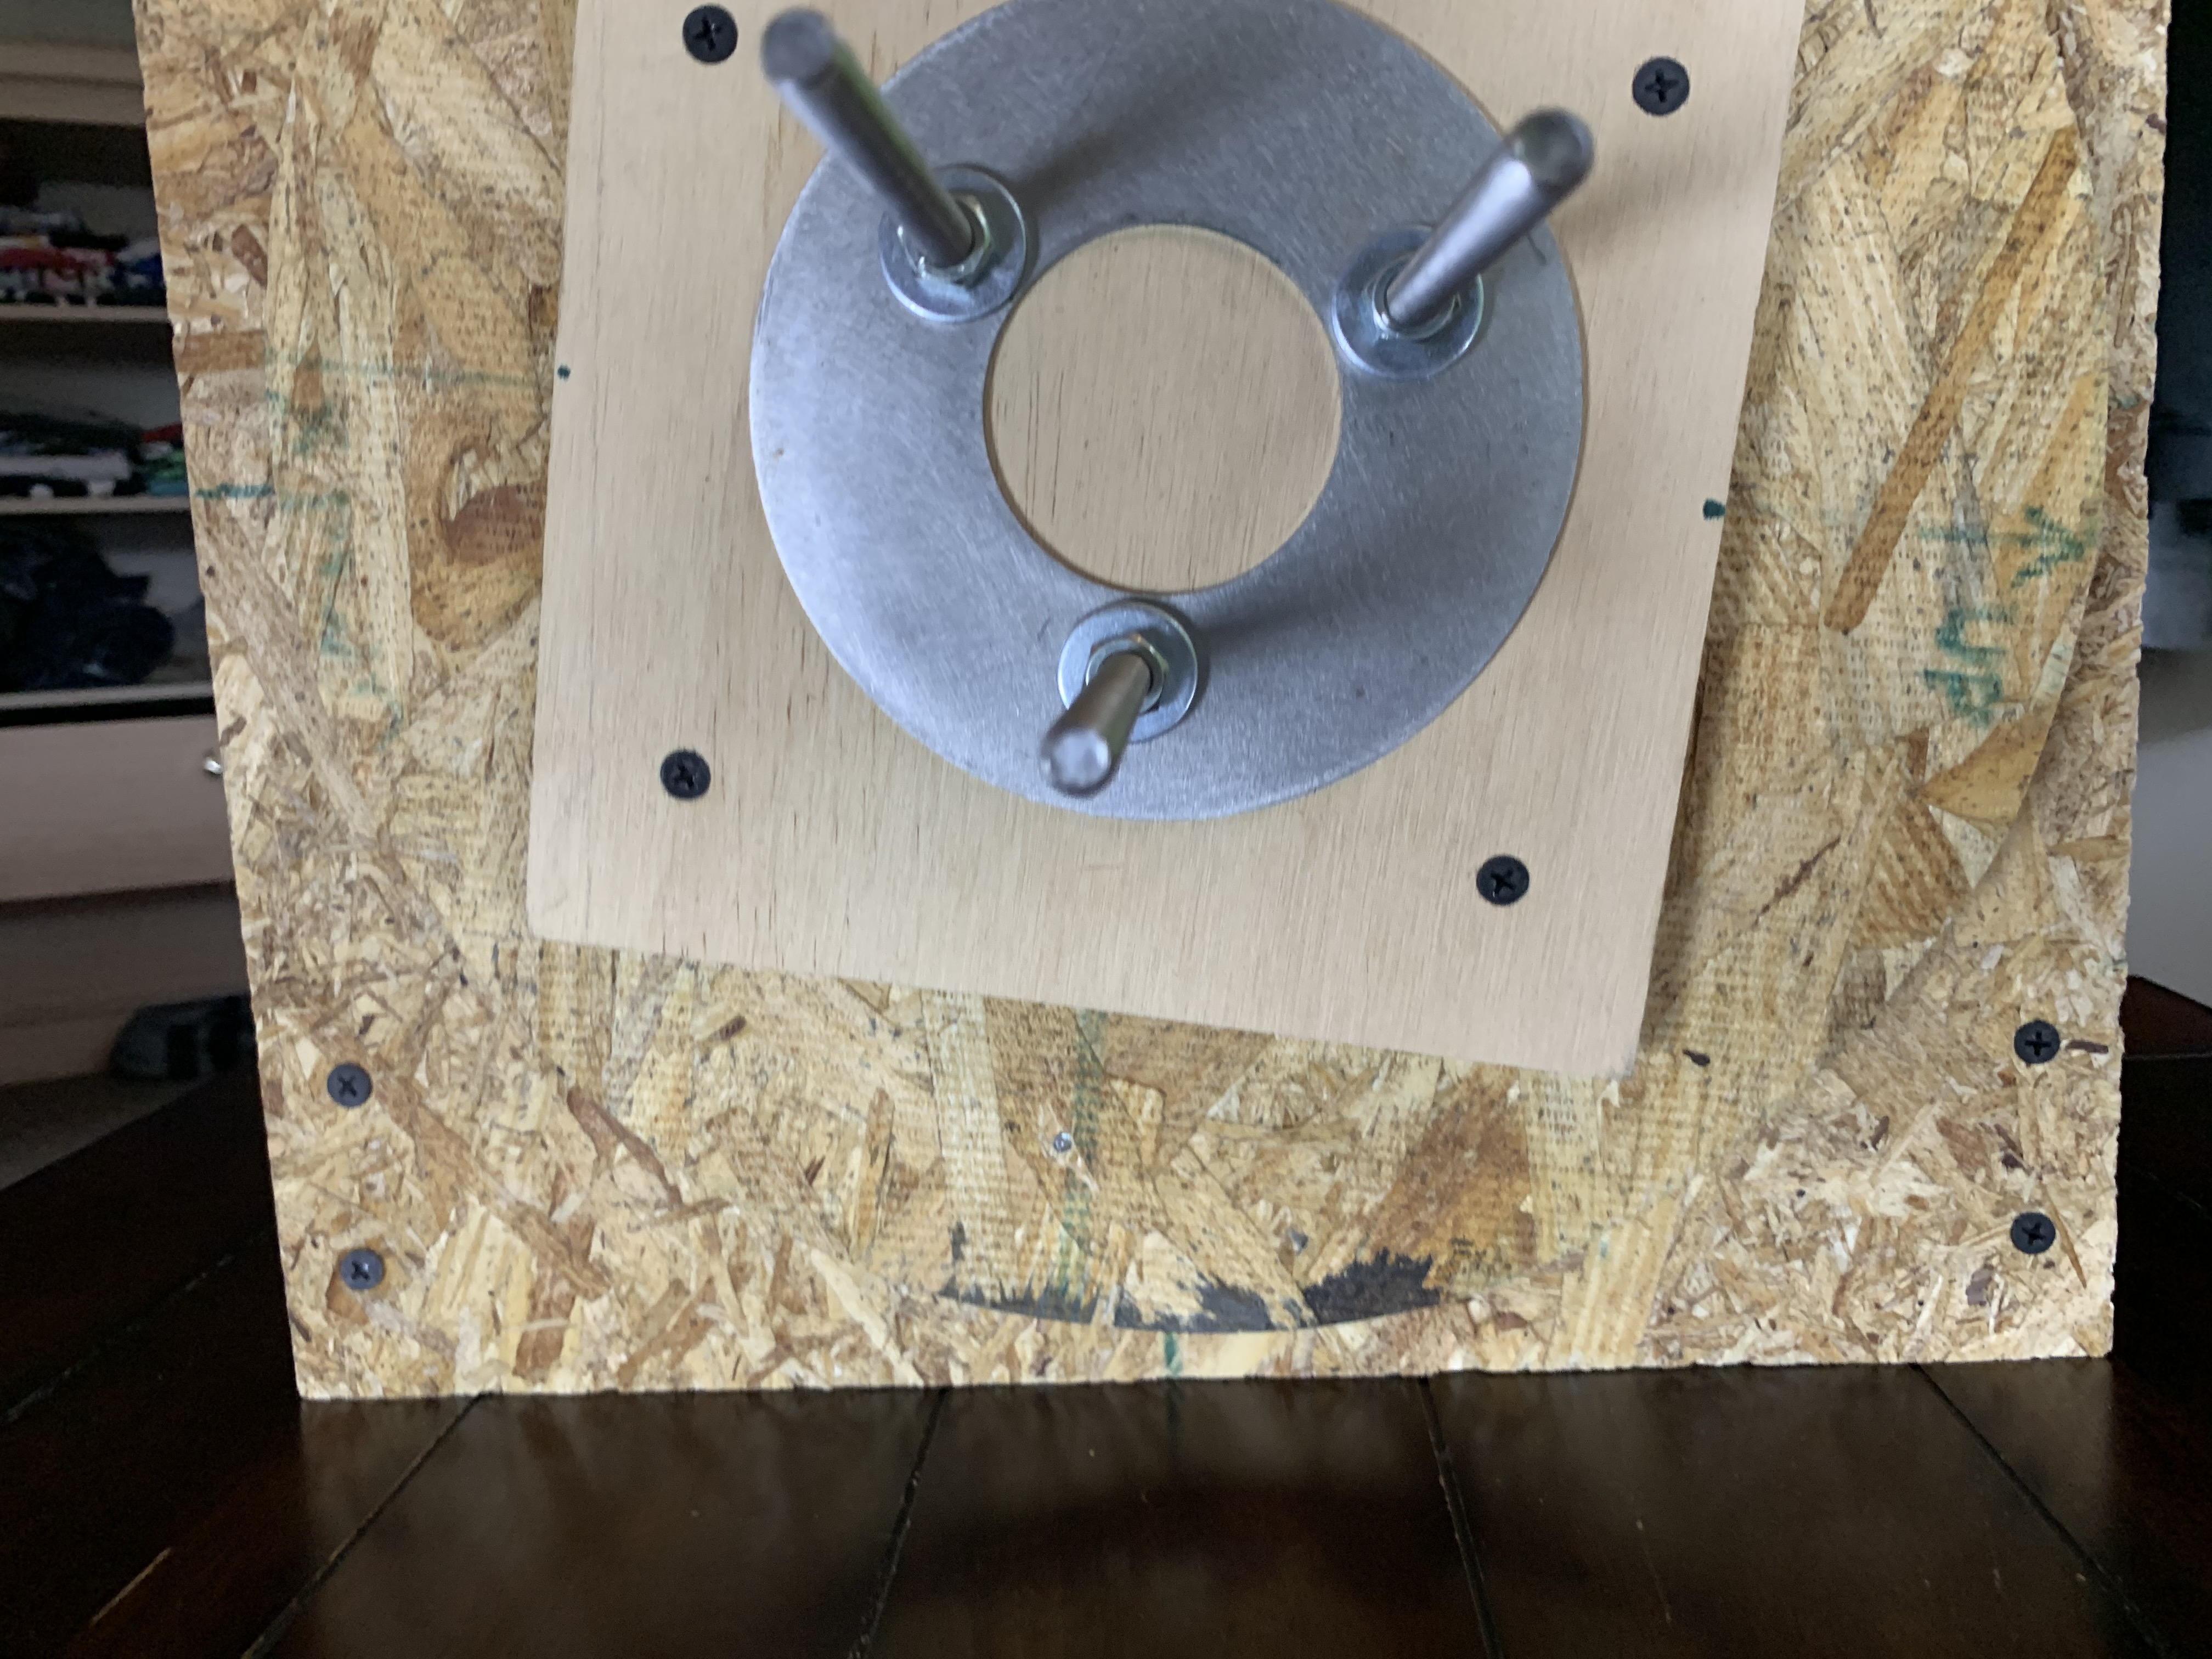bolt: (873, 159, 1042, 331), (1332, 225, 1493, 389), (1054, 596, 1207, 746)
